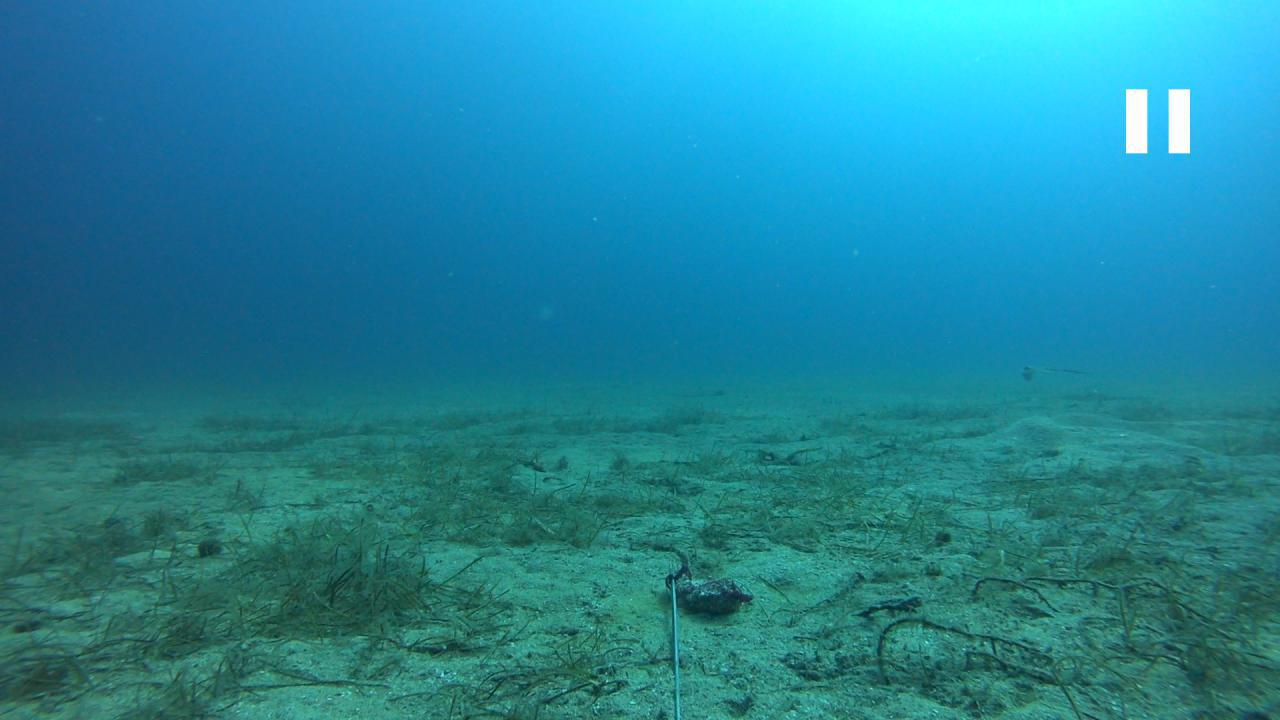dasyatis: (1017, 363, 1083, 380)
